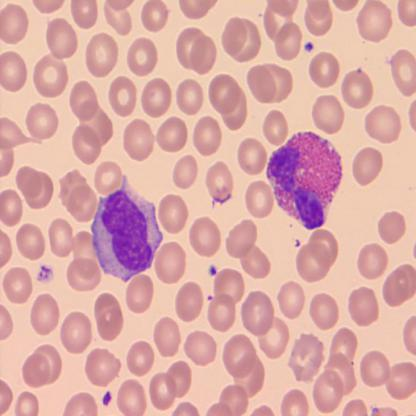Eosinophil: (263, 130, 345, 233)
